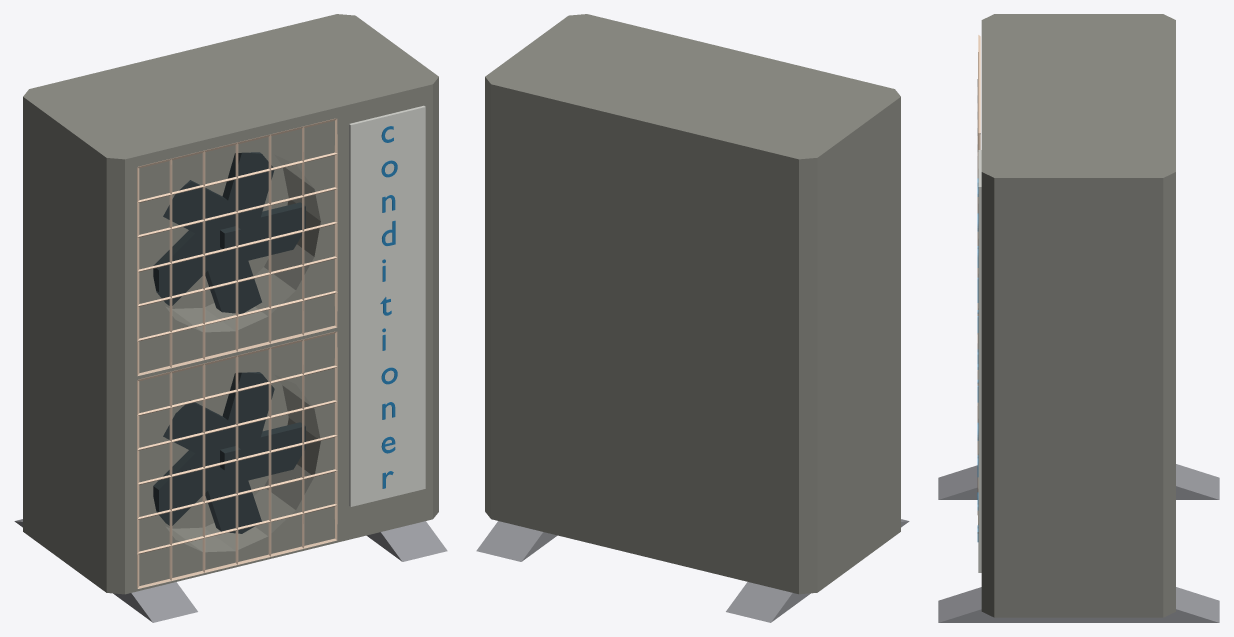
File: conditioner_1.fbx
3 renders of one model, left to right at view 1: azimuth 30°, elevation 25°; view 2: azimuth 150°, elevation 25°; view 3: azimuth 270°, elevation 25°, orthographic.
Visible parts, largest first — view 1: conditioner_1, screw_1, net_1, conditioner_11, Text_1; view 2: conditioner_1, conditioner_11; view 3: conditioner_1, conditioner_11, net_1, Text_1.
Part boxes in pixels (x1,y1,x2,y2): conditioner_1: (23,14,438,594); screw_1: (153,152,305,533); net_1: (137,118,337,588); conditioner_11: (14,519,447,622); Text_1: (380,126,397,488); conditioner_1: (485,14,900,594); conditioner_11: (476,519,909,622); conditioner_1: (978,14,1175,617); conditioner_11: (938,464,1219,622); net_1: (977,35,980,524); Text_1: (977,178,978,541).
Size of the model in its own units: 80 by 103 by 57.95.
